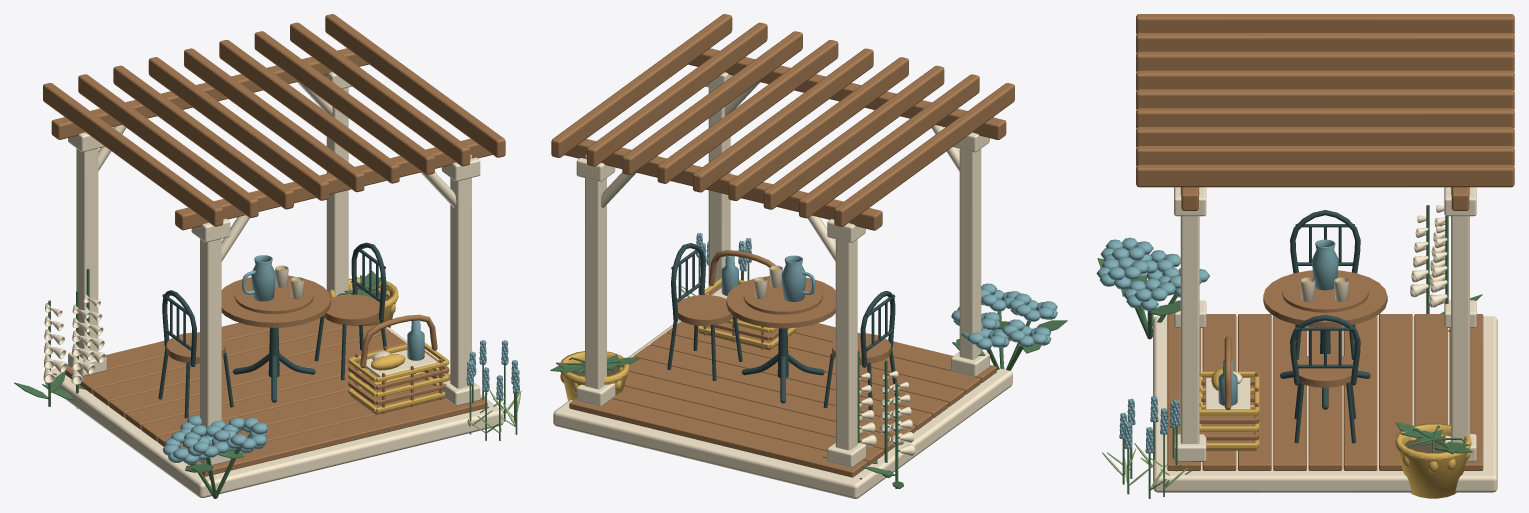
The model's file is almanac-gardens-summer-terrace-vignette-91b5263b__22102.glb.
3 renders of one model, left to right at view 1: azimuth 30°, elevation 25°; view 2: azimuth 150°, elevation 25°; view 3: azimuth 270°, elevation 25°, orthographic. The views are drawn at different scales.
Parts seen in each view (by area): view 1: 000-garden-pergola/garden-pergola-oak, 000-garden-pergola/garden-pergola-ivory, 000-garden-pergola/garden-pergola-stone, 007-picnic-hamper/picnic-hamper-oak, 007-picnic-hamper/picnic-hamper-gold, 008-foxglove-spires/foxglove-spires-pink, 001-bistro-table/bistro-table-oak, 002-bistro-chair/bistro-chair-iron, 005-hydrangea-bush/hydrangea-bush-purple, 003-bistro-chair/bistro-chair-iron, 005-hydrangea-bush/hydrangea-bush-blue, 004-lemonade-tray/lemonade-tray-oak (+12 smaller); view 2: 000-garden-pergola/garden-pergola-oak, 000-garden-pergola/garden-pergola-ivory, 000-garden-pergola/garden-pergola-stone, 001-bistro-table/bistro-table-oak, 003-bistro-chair/bistro-chair-iron, 005-hydrangea-bush/hydrangea-bush-purple, 008-foxglove-spires/foxglove-spires-pink, 005-hydrangea-bush/hydrangea-bush-blue, 002-bistro-chair/bistro-chair-iron, 004-lemonade-tray/lemonade-tray-oak, 007-picnic-hamper/picnic-hamper-oak, 008-foxglove-spires/foxglove-spires-leaf (+8 smaller); view 3: 000-garden-pergola/garden-pergola-oak, 000-garden-pergola/garden-pergola-stone, 000-garden-pergola/garden-pergola-ivory, 009-strawberry-planter/strawberry-planter-clay, 005-hydrangea-bush/hydrangea-bush-purple, 001-bistro-table/bistro-table-oak, 003-bistro-chair/bistro-chair-iron, 007-picnic-hamper/picnic-hamper-oak, 008-foxglove-spires/foxglove-spires-pink, 004-lemonade-tray/lemonade-tray-oak, 007-picnic-hamper/picnic-hamper-gold, 002-bistro-chair/bistro-chair-iron (+13 smaller).
Boxes of the visible parts, x1,y1,x2,y2 form: 000-garden-pergola/garden-pergola-oak: (43,14,505,476); 000-garden-pergola/garden-pergola-ivory: (68,72,480,465); 000-garden-pergola/garden-pergola-stone: (45,327,503,497); 007-picnic-hamper/picnic-hamper-oak: (348,314,449,414); 007-picnic-hamper/picnic-hamper-gold: (348,342,449,412); 008-foxglove-spires/foxglove-spires-pink: (43,294,105,384); 001-bistro-table/bistro-table-oak: (221,275,330,327); 002-bistro-chair/bistro-chair-iron: (158,290,233,418); 005-hydrangea-bush/hydrangea-bush-purple: (162,415,268,464); 003-bistro-chair/bistro-chair-iron: (314,242,386,380); 005-hydrangea-bush/hydrangea-bush-blue: (164,417,267,462); 004-lemonade-tray/lemonade-tray-oak: (234,279,313,314); 000-garden-pergola/garden-pergola-oak: (551,14,1014,477); 000-garden-pergola/garden-pergola-ivory: (576,72,989,467); 000-garden-pergola/garden-pergola-stone: (553,320,1012,498); 001-bistro-table/bistro-table-oak: (726,276,835,328); 003-bistro-chair/bistro-chair-iron: (667,243,742,380); 005-hydrangea-bush/hydrangea-bush-purple: (953,283,1053,347); 008-foxglove-spires/foxglove-spires-pink: (859,371,915,455); 005-hydrangea-bush/hydrangea-bush-blue: (951,289,1057,349); 002-bistro-chair/bistro-chair-iron: (823,291,898,410); 004-lemonade-tray/lemonade-tray-oak: (743,279,822,314); 007-picnic-hamper/picnic-hamper-oak: (698,250,795,350); 008-foxglove-spires/foxglove-spires-leaf: (823,350,903,488); 000-garden-pergola/garden-pergola-oak: (1136,14,1514,470); 000-garden-pergola/garden-pergola-stone: (1153,316,1497,492); 000-garden-pergola/garden-pergola-ivory: (1174,187,1476,461); 009-strawberry-planter/strawberry-planter-clay: (1395,423,1471,498); 005-hydrangea-bush/hydrangea-bush-purple: (1096,237,1209,311); 001-bistro-table/bistro-table-oak: (1263,270,1387,327); 003-bistro-chair/bistro-chair-iron: (1290,315,1360,443); 007-picnic-hamper/picnic-hamper-oak: (1199,336,1259,450); 008-foxglove-spires/foxglove-spires-pink: (1410,205,1447,307); 004-lemonade-tray/lemonade-tray-oak: (1282,274,1368,312); 007-picnic-hamper/picnic-hamper-gold: (1199,369,1259,448); 002-bistro-chair/bistro-chair-iron: (1290,210,1360,359).
Size of the model in its own units: 3.41 by 2.63 by 3.09.
